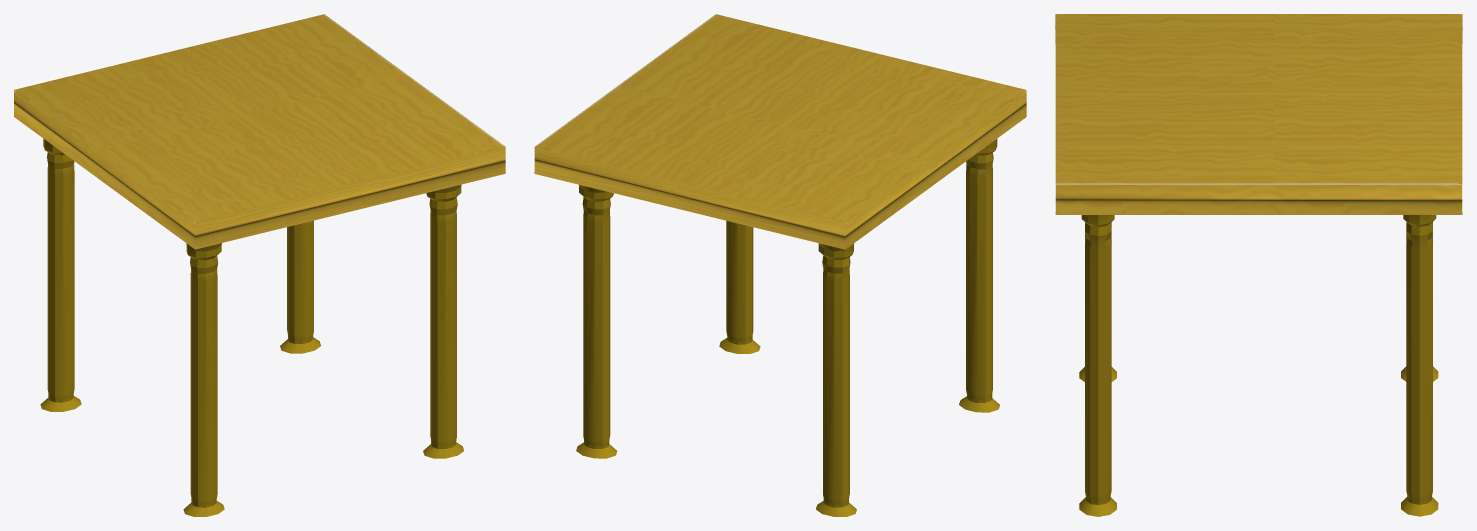
Rendered from Small Table for Lobby.fbx.
3 renders of one model, left to right at view 1: azimuth 30°, elevation 25°; view 2: azimuth 150°, elevation 25°; view 3: azimuth 270°, elevation 25°, orthographic. The views are drawn at different scales.
Visible parts, largest first — view 1: Small_Table_for_Lobby; view 2: Small_Table_for_Lobby; view 3: Small_Table_for_Lobby.
Boxes of the visible parts, x1=… form: Small_Table_for_Lobby: x1=14, y1=14, x2=505, y2=516; Small_Table_for_Lobby: x1=534, y1=14, x2=1026, y2=516; Small_Table_for_Lobby: x1=1055, y1=14, x2=1462, y2=516.
Bounding box in the file's own units: 243 × 230 × 246.
2 materials, 1 textured.
